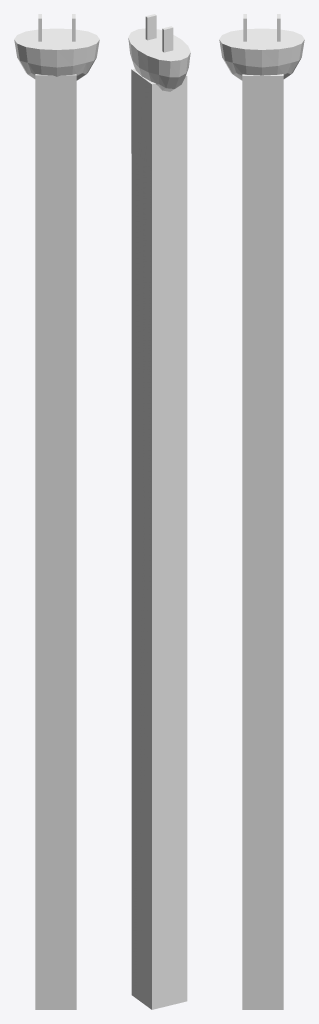
The model's file is ropetest.obj.
3 renders of one model, left to right at view 1: azimuth 90°, elevation 25°; view 2: azimuth 210°, elevation 25°; view 3: azimuth 270°, elevation 25°, orthographic.
Visible parts, largest first — view 1: Cube; view 2: Cube; view 3: Cube.
Part boxes in pixels (bbox=[...]): Cube: bbox=[14, 14, 99, 1009]; Cube: bbox=[128, 14, 190, 1009]; Cube: bbox=[219, 14, 304, 1009].
Size of the model in its own units: 0.1086 by 2.32 by 0.1826.
Materials: 1 (1 with a texture image).
